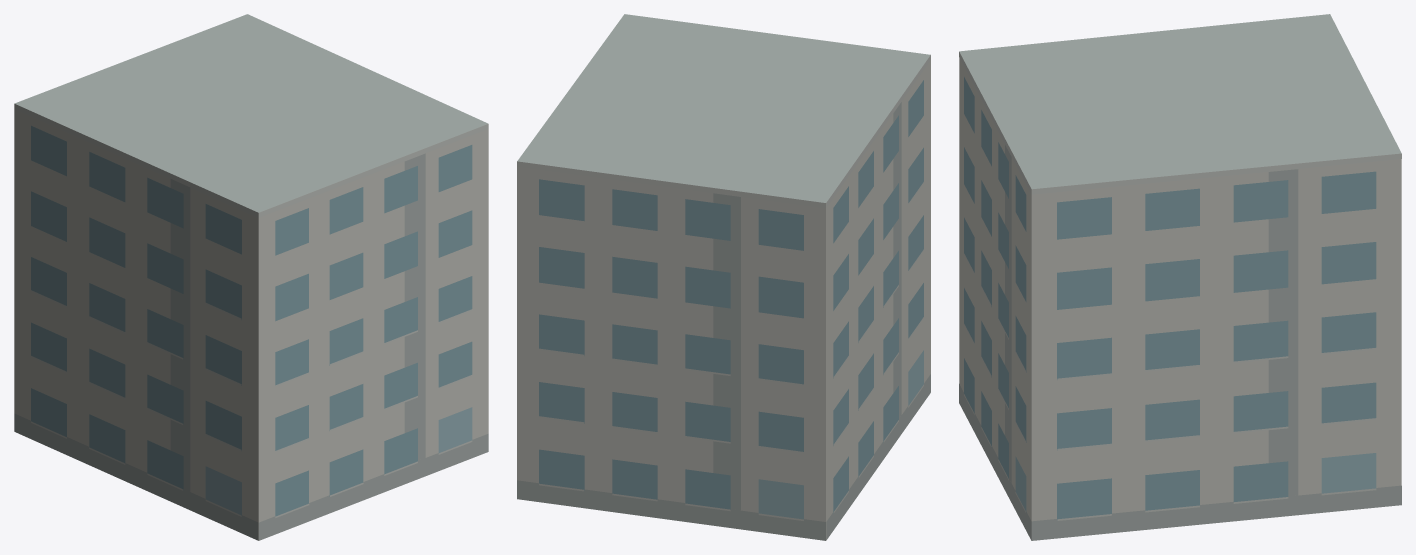
The model's file is residential-ca593d89-1928-4b7a-8c13-56475965a224.glb.
3 renders of one model, left to right at view 1: azimuth 30°, elevation 25°; view 2: azimuth 150°, elevation 25°; view 3: azimuth 270°, elevation 25°, orthographic. The views are drawn at different scales.
Visible parts, largest first — view 1: residential-ca593d89-1928-4b7a-8c13-56475965a224.tmp; view 2: residential-ca593d89-1928-4b7a-8c13-56475965a224.tmp; view 3: residential-ca593d89-1928-4b7a-8c13-56475965a224.tmp.
Part boxes in pixels (x1=…): residential-ca593d89-1928-4b7a-8c13-56475965a224.tmp: x1=14, y1=14, x2=488, y2=540; residential-ca593d89-1928-4b7a-8c13-56475965a224.tmp: x1=517, y1=14, x2=930, y2=540; residential-ca593d89-1928-4b7a-8c13-56475965a224.tmp: x1=959, y1=14, x2=1401, y2=540.
Bounding box in the file's own units: 16.31 × 15.25 × 17.41.
